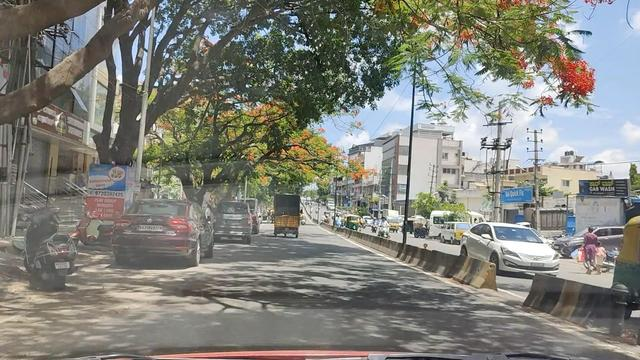HMV: (273, 191, 297, 235)
LMV: (106, 194, 229, 266)
